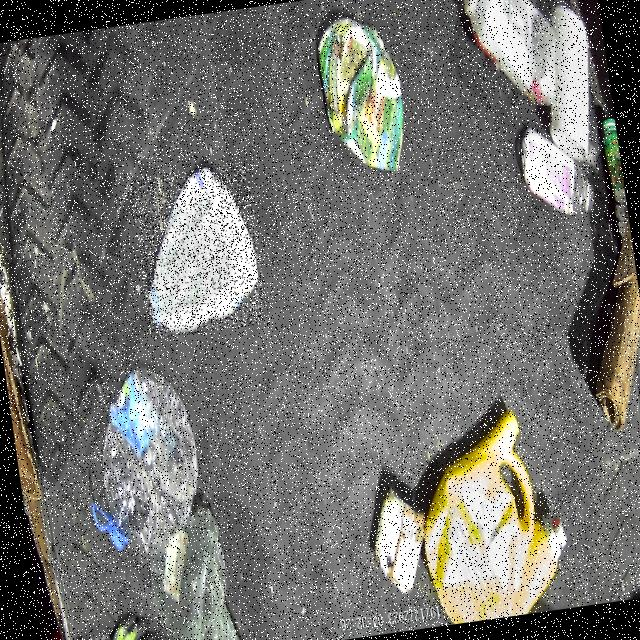milk-jug: (127, 161, 269, 339)
